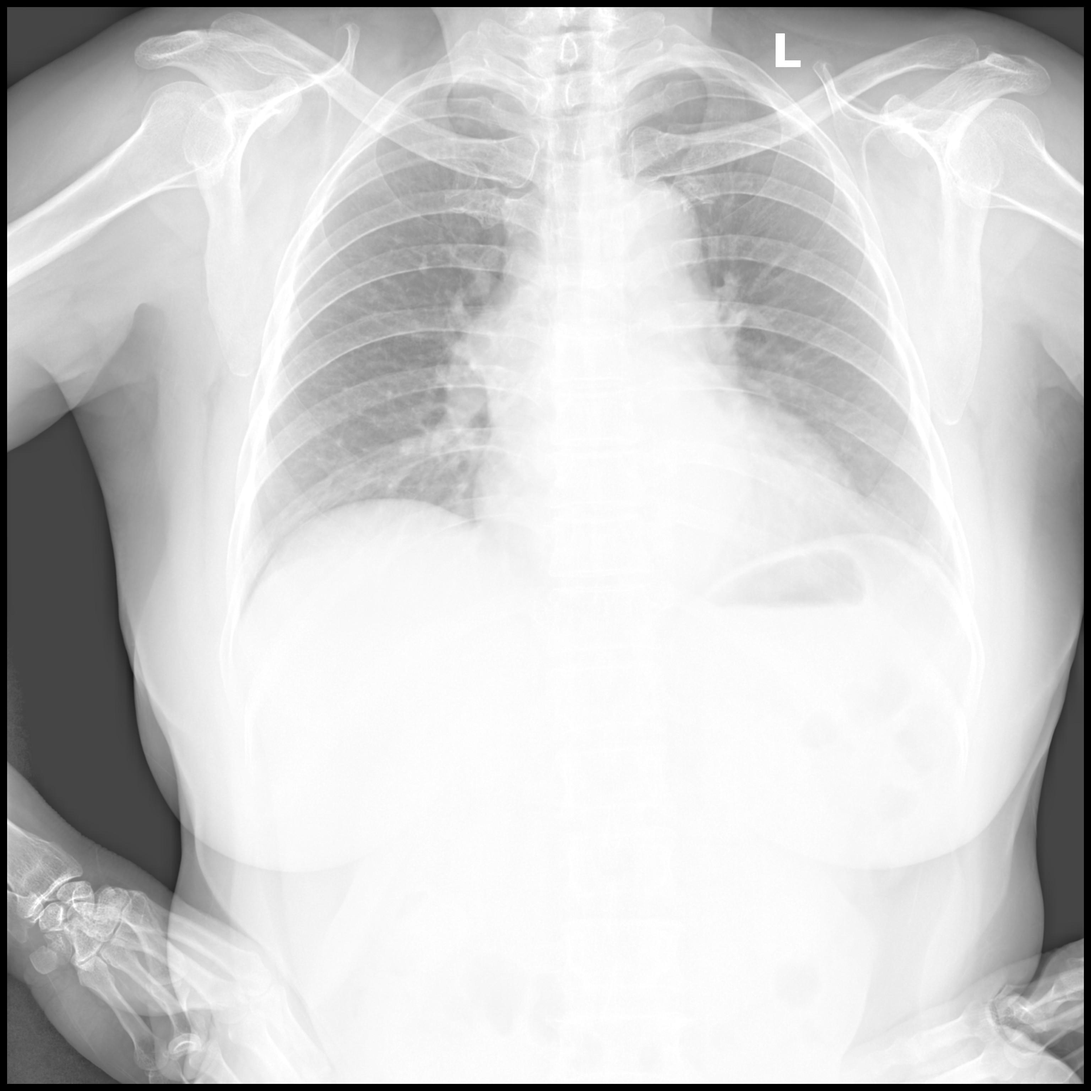Aortic enlargement: (577, 169, 714, 292)
Cardiomegaly: (463, 434, 893, 566)
